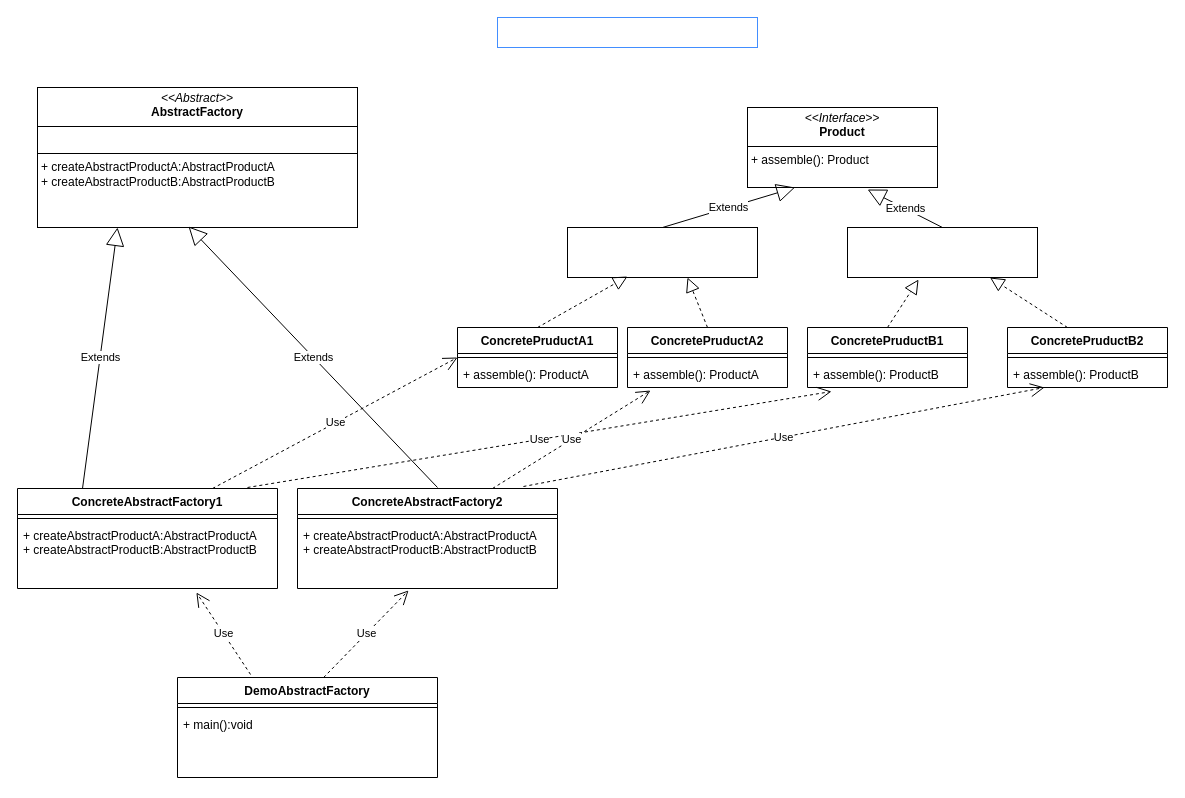
Some shapes in this 1185 by 798 pixel diagram are drawn without their labels. The shapes that lost their labels are listed below. From the top down, each one's centre as x and y in pixels, then its label:
pixel 627 32: Abstract Factory Pattern
pixel 662 252: <<Interface>> ProductA
pixel 942 252: <<Interface>> ProductB
